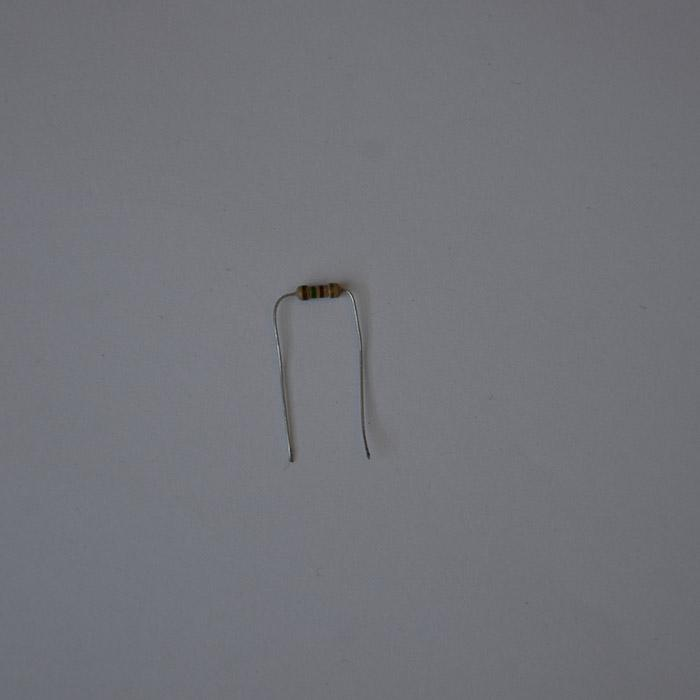resistor: (296, 282, 341, 300)
